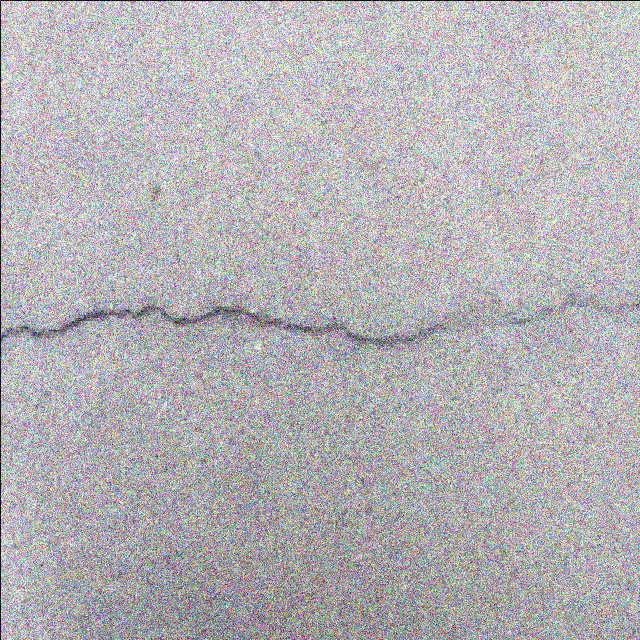SurfaceCrack: (8, 266, 640, 368)
